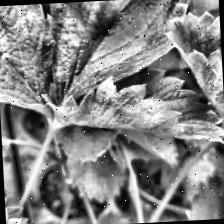Powdery Mildew Leaf: (43, 60, 224, 152), (161, 10, 224, 162)
